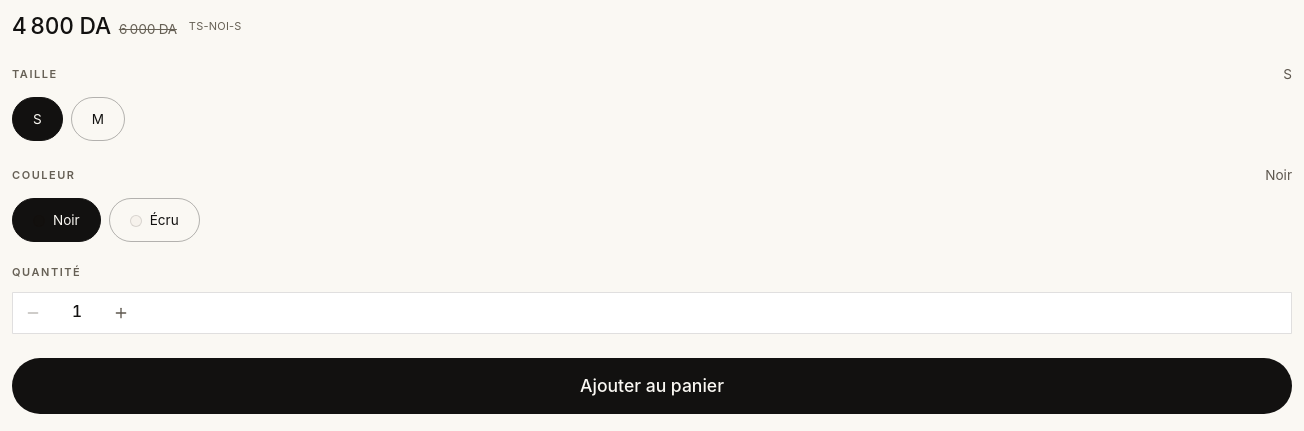
Scenario: PurchasePanel › drives the quantity selector
This screenshot has width=1304, height=431.
Check: the field named "Quantité" holds "1", box [53, 300, 101, 325]
What coordinates should you click on to do the following:
click the button named "augmenter"
I would click on:
 (121, 313)
Its box is [101, 293, 141, 333].
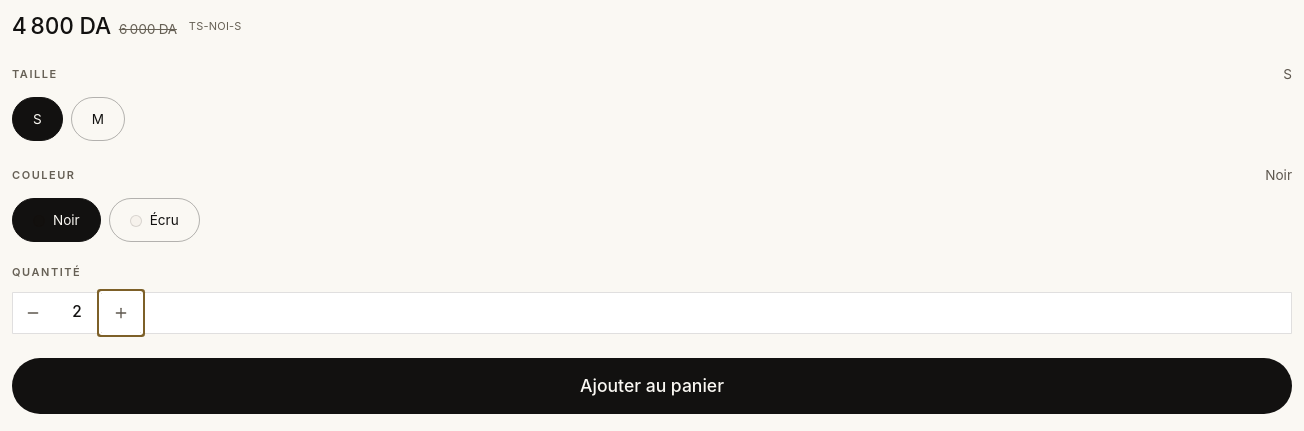
Check: the field named "Quantité" holds "2", box [53, 300, 101, 325]
